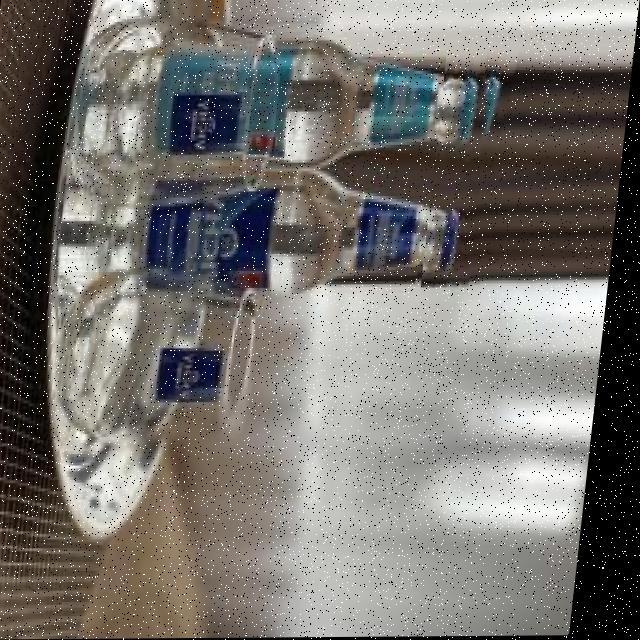litter: (427, 42, 514, 288)
